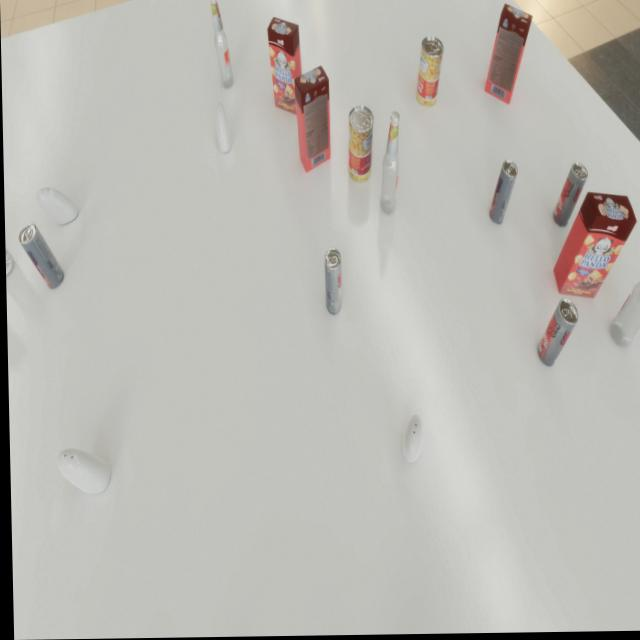Bottle: (606, 245, 640, 349), (377, 112, 401, 216), (209, 0, 234, 89)
HelloPanda: (551, 193, 637, 300), (483, 5, 534, 106), (294, 66, 331, 174), (267, 17, 303, 117)
Potato_sticks: (346, 106, 374, 184), (414, 37, 444, 109)
Rita_zero_sugar: (17, 223, 63, 290), (535, 300, 578, 368), (551, 164, 588, 229), (488, 161, 518, 226), (323, 249, 341, 316)
Salt: (55, 448, 109, 495), (36, 187, 78, 225), (400, 415, 422, 464), (216, 102, 231, 154)
